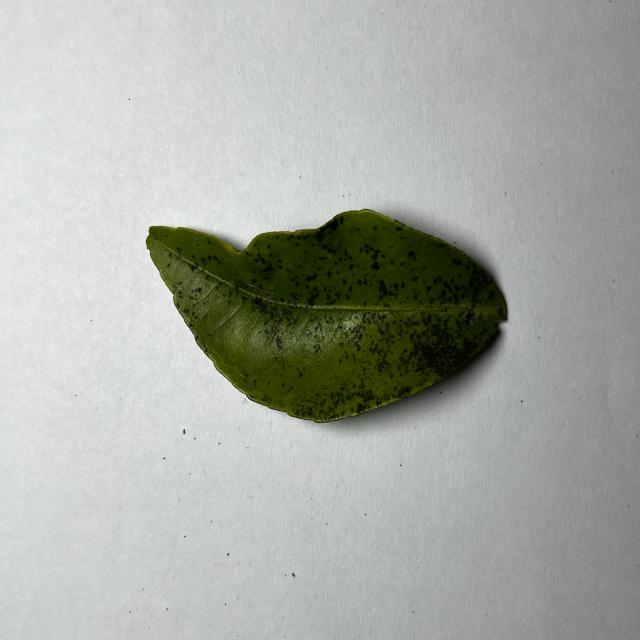sooty_mold: (147, 210, 507, 422)
